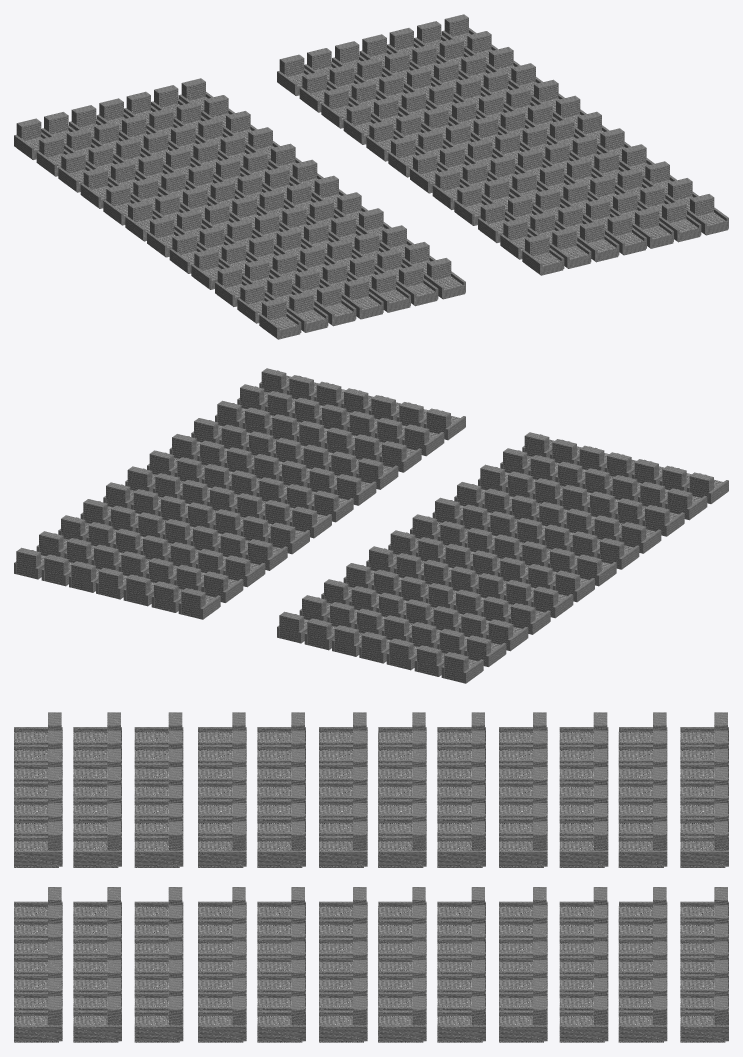
Rendered from Sillas.fbx.
3 views of the same model, one above another, from view 1: azimuth 30°, elevation 25°; view 2: azimuth 150°, elevation 25°; view 3: azimuth 270°, elevation 25° (orthographic). The views are drawn at different scales.
Parts seen in each view (by area): view 1: no part large enough to name; view 2: Cube__18__64, Cube__18__68, Cube__18__148, Cube__18__152, Cube__18__66, Cube__18__149, Cube__18__67, Cube__18__151, Cube__18__153, Cube__18__69, Cube__18__147, Cube__18__150 (+152 smaller); view 3: Cube__19__88, Cube__19__165, Cube__19__4, Cube__19__81, Cube__19__11, Cube__19__18, Cube__19__25, Cube__19__32, Cube__19__39, Cube__19__46, Cube__19__53, Cube__19__60 (+12 smaller).
Boxes of the visible parts, box(x1,y1,x2,y2) form: Cube__18__64: box(126, 574, 150, 605); Cube__18__68: box(44, 554, 68, 585); Cube__18__148: box(389, 638, 413, 669); Cube__18__152: box(307, 618, 331, 649); Cube__18__66: box(181, 588, 205, 618); Cube__18__149: box(417, 645, 441, 675); Cube__18__67: box(16, 547, 40, 578); Cube__18__151: box(279, 611, 303, 642); Cube__18__153: box(334, 625, 358, 655); Cube__18__69: box(71, 561, 95, 591); Cube__18__147: box(361, 632, 386, 662); Cube__18__150: box(444, 652, 468, 682); Cube__19__88: box(134, 850, 183, 866); Cube__19__165: box(559, 850, 608, 866); Cube__19__4: box(134, 1025, 183, 1041); Cube__19__81: box(559, 1025, 608, 1041); Cube__19__11: box(73, 1025, 121, 1041); Cube__19__18: box(14, 1025, 62, 1041); Cube__19__25: box(319, 1025, 367, 1041); Cube__19__32: box(257, 1025, 305, 1041); Cube__19__39: box(198, 1025, 246, 1041); Cube__19__46: box(499, 1025, 547, 1041); Cube__19__53: box(437, 1025, 485, 1041); Cube__19__60: box(378, 1025, 426, 1041).
Size of the model in its own units: 3854 by 196 by 3887.
Materials: 2 (2 with a texture image).
